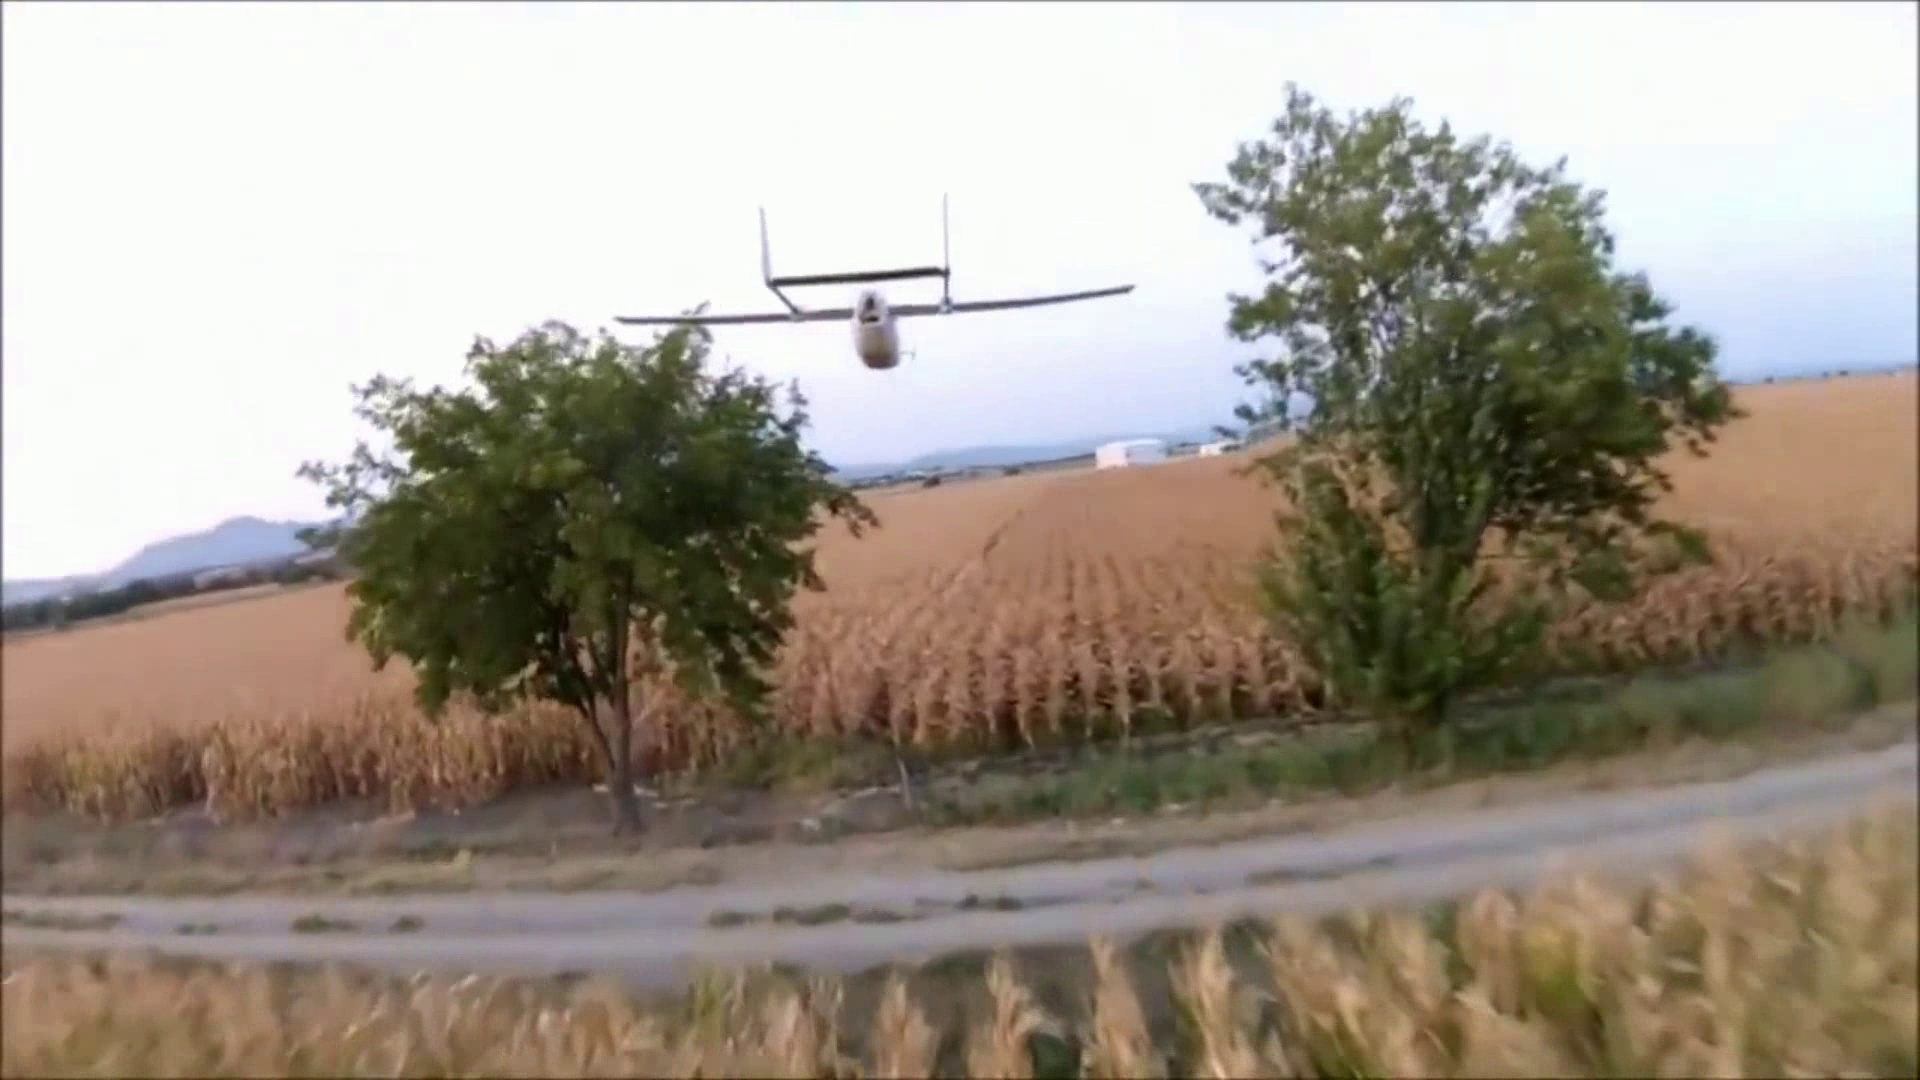airplane: (611, 195, 1141, 375)
